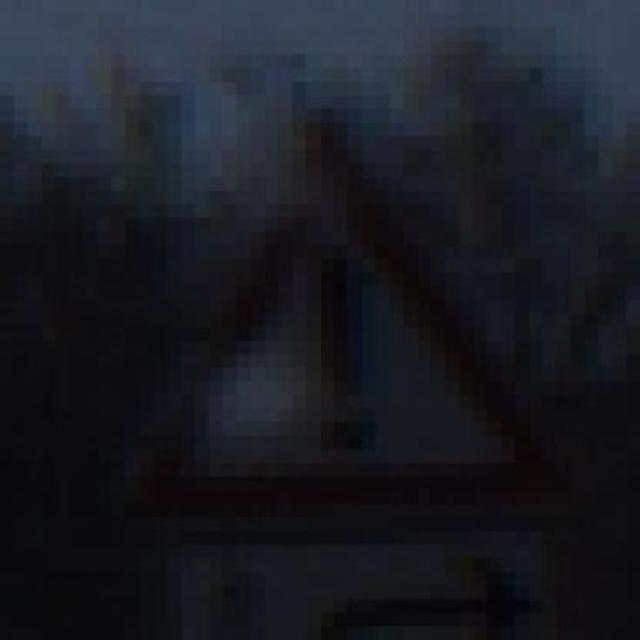Attention Please-: (97, 96, 557, 558)
